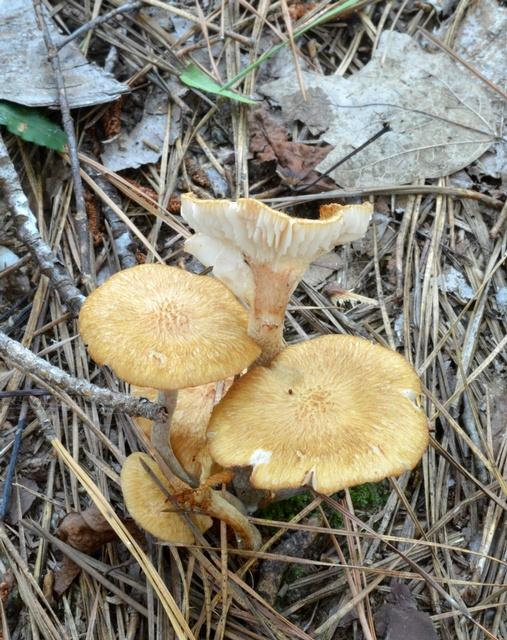Edible Mushroom: (77, 262, 262, 489), (204, 332, 430, 498), (178, 190, 374, 363)
